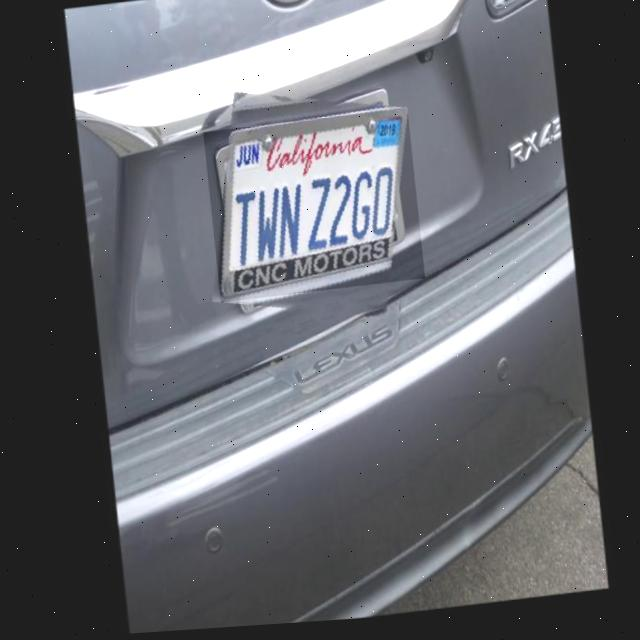LicensePlate: (218, 114, 406, 305)
